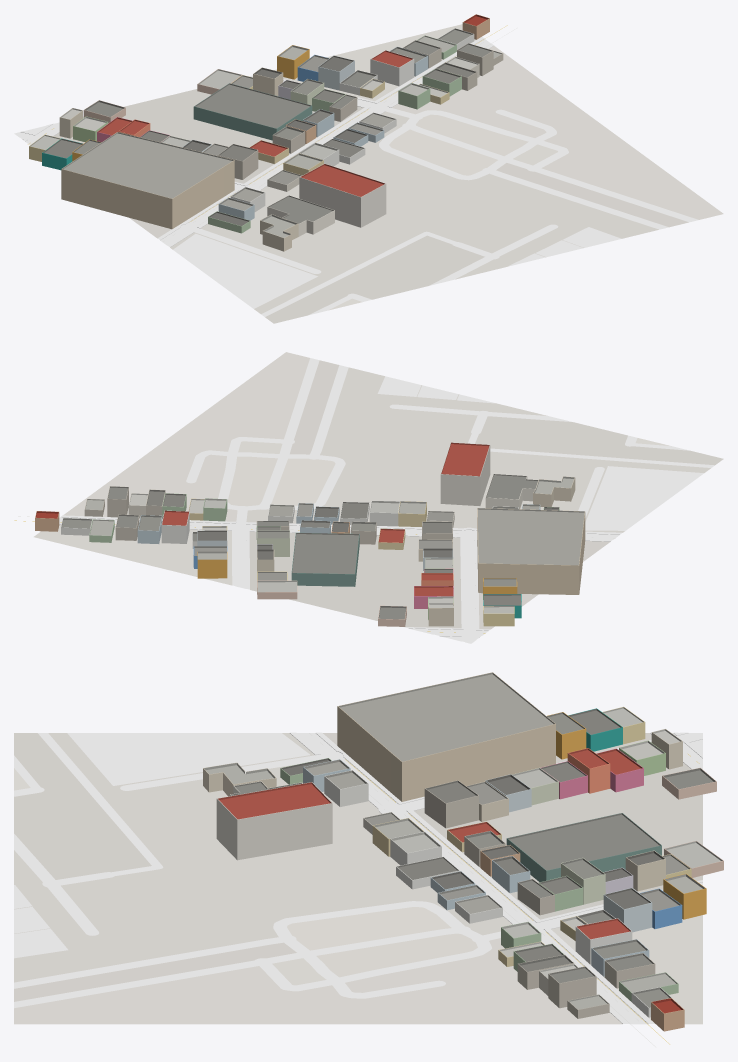
3 renders of one model, top to bottom at view 1: azimuth 30°, elevation 25°; view 2: azimuth 150°, elevation 25°; view 3: azimuth 270°, elevation 25°, orthographic. The views are drawn at different scales.
Visible parts, largest first — view 1: ground, roofs, walls, asphalt, grass, sidewalk; view 2: ground, roofs, walls, asphalt, grass, sidewalk; view 3: ground, roofs, walls, asphalt, grass, sidewalk.
Boxes of the visible parts, box(x1,y1,x2,y2) form: ground: box(53, 24, 723, 323); roofs: box(29, 14, 502, 237); walls: box(29, 18, 503, 251); asphalt: box(14, 39, 698, 316); grass: box(24, 126, 621, 308); sidewalk: box(20, 37, 494, 247); ground: box(34, 352, 723, 629); roofs: box(35, 442, 585, 619); walls: box(35, 445, 585, 626); asphalt: box(59, 358, 714, 643); grass: box(377, 376, 703, 641); sidewalk: box(59, 515, 622, 641); ground: box(14, 733, 702, 1024); roofs: box(203, 672, 723, 1013); walls: box(203, 706, 723, 1031); asphalt: box(14, 733, 702, 1024); grass: box(14, 733, 702, 958); sidewalk: box(290, 732, 702, 1023).
Size of what is drawn, in the model's own units: 288 by 16.2 by 258.
